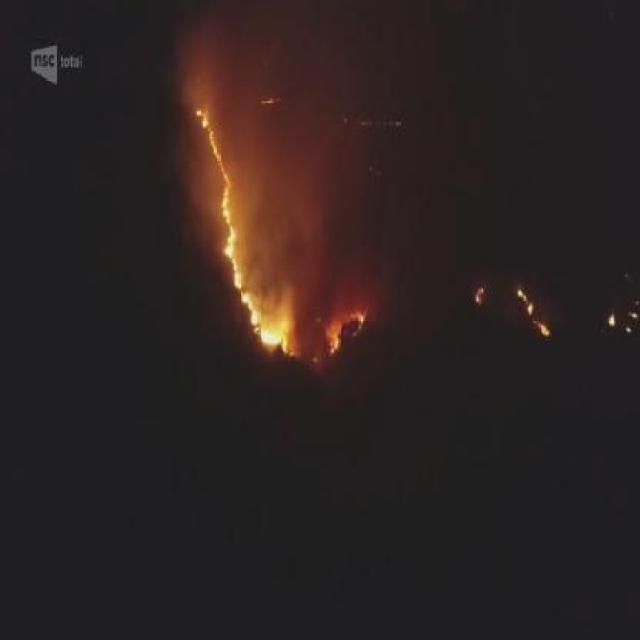Fire: (212, 109, 246, 294), (248, 292, 294, 357), (516, 286, 552, 339), (192, 105, 211, 132), (329, 326, 342, 356), (352, 312, 365, 336), (474, 285, 484, 304), (606, 309, 616, 328)
